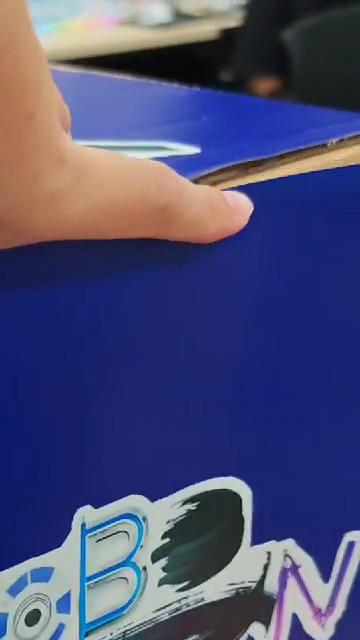B_R1: (0, 450, 360, 640), (0, 478, 359, 640)
